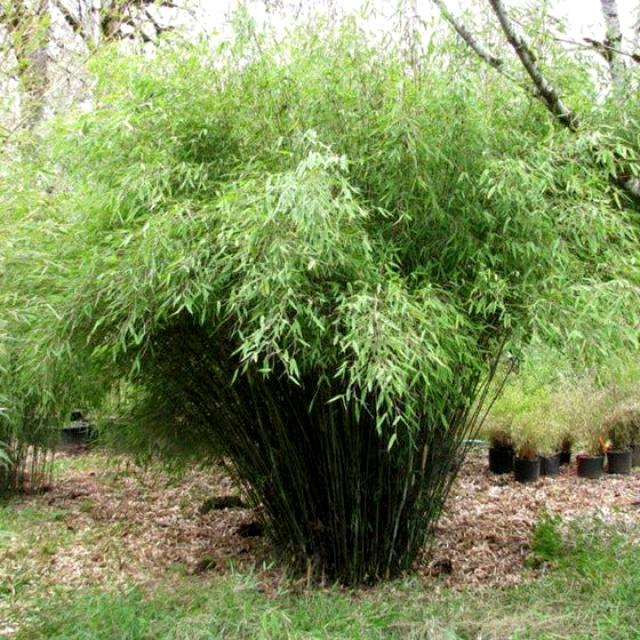Clumping: (100, 64, 564, 601)
